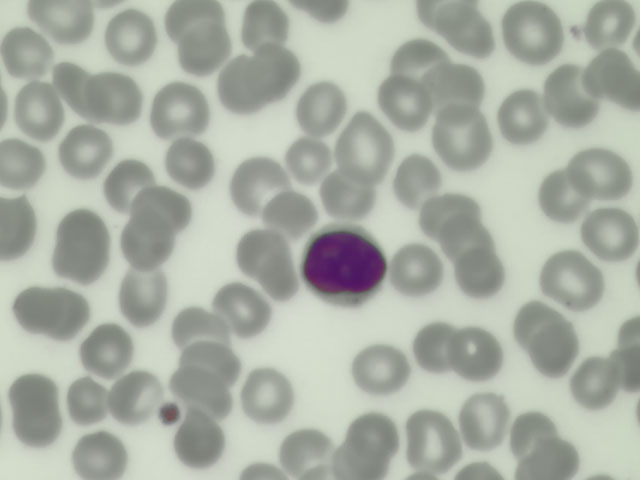Platelets: (155, 399, 183, 428)
RBC: (53, 210, 110, 279), (501, 1, 561, 65), (542, 251, 602, 304), (338, 120, 394, 175), (319, 166, 374, 220), (389, 34, 444, 88), (441, 9, 496, 63), (505, 408, 560, 462), (458, 393, 513, 447), (402, 411, 457, 465), (348, 407, 403, 461), (451, 324, 506, 378), (411, 318, 466, 372), (354, 341, 409, 395), (583, 208, 638, 262), (575, 147, 630, 201), (535, 169, 590, 223), (391, 244, 446, 298), (453, 249, 508, 303), (440, 218, 495, 272), (422, 184, 477, 238), (391, 153, 446, 207), (377, 75, 432, 129), (280, 132, 335, 186), (295, 81, 350, 135), (564, 356, 619, 410), (492, 90, 547, 144), (540, 67, 595, 121), (585, 47, 640, 101), (436, 114, 491, 168), (432, 60, 487, 114), (175, 342, 240, 387), (580, 1, 635, 54), (530, 320, 581, 377), (92, 72, 148, 123), (1, 197, 46, 256), (176, 30, 233, 76), (172, 309, 237, 348), (283, 427, 332, 478), (243, 367, 292, 418), (267, 190, 316, 241), (230, 160, 279, 211), (257, 257, 306, 308), (237, 225, 286, 276), (218, 284, 267, 335), (172, 415, 221, 466), (219, 60, 268, 111), (250, 42, 299, 93), (164, 139, 213, 190), (158, 83, 207, 134), (117, 269, 166, 320), (124, 217, 173, 268), (104, 159, 153, 210), (111, 372, 160, 423), (63, 376, 112, 427), (10, 396, 59, 447), (10, 369, 59, 420), (83, 325, 132, 376), (11, 281, 60, 332), (61, 126, 110, 177), (52, 62, 101, 113), (13, 87, 62, 138), (1, 27, 50, 78), (105, 13, 154, 64), (522, 440, 584, 480), (242, 1, 291, 51), (75, 429, 124, 479), (132, 187, 188, 230), (1, 137, 48, 188), (174, 374, 229, 416), (166, 1, 222, 42), (46, 290, 91, 341), (36, 1, 94, 40), (606, 347, 640, 405), (514, 301, 559, 344), (332, 443, 384, 479), (414, 1, 478, 29), (606, 303, 640, 354), (303, 1, 351, 32), (238, 455, 282, 480)
WBC: (305, 228, 388, 306)
